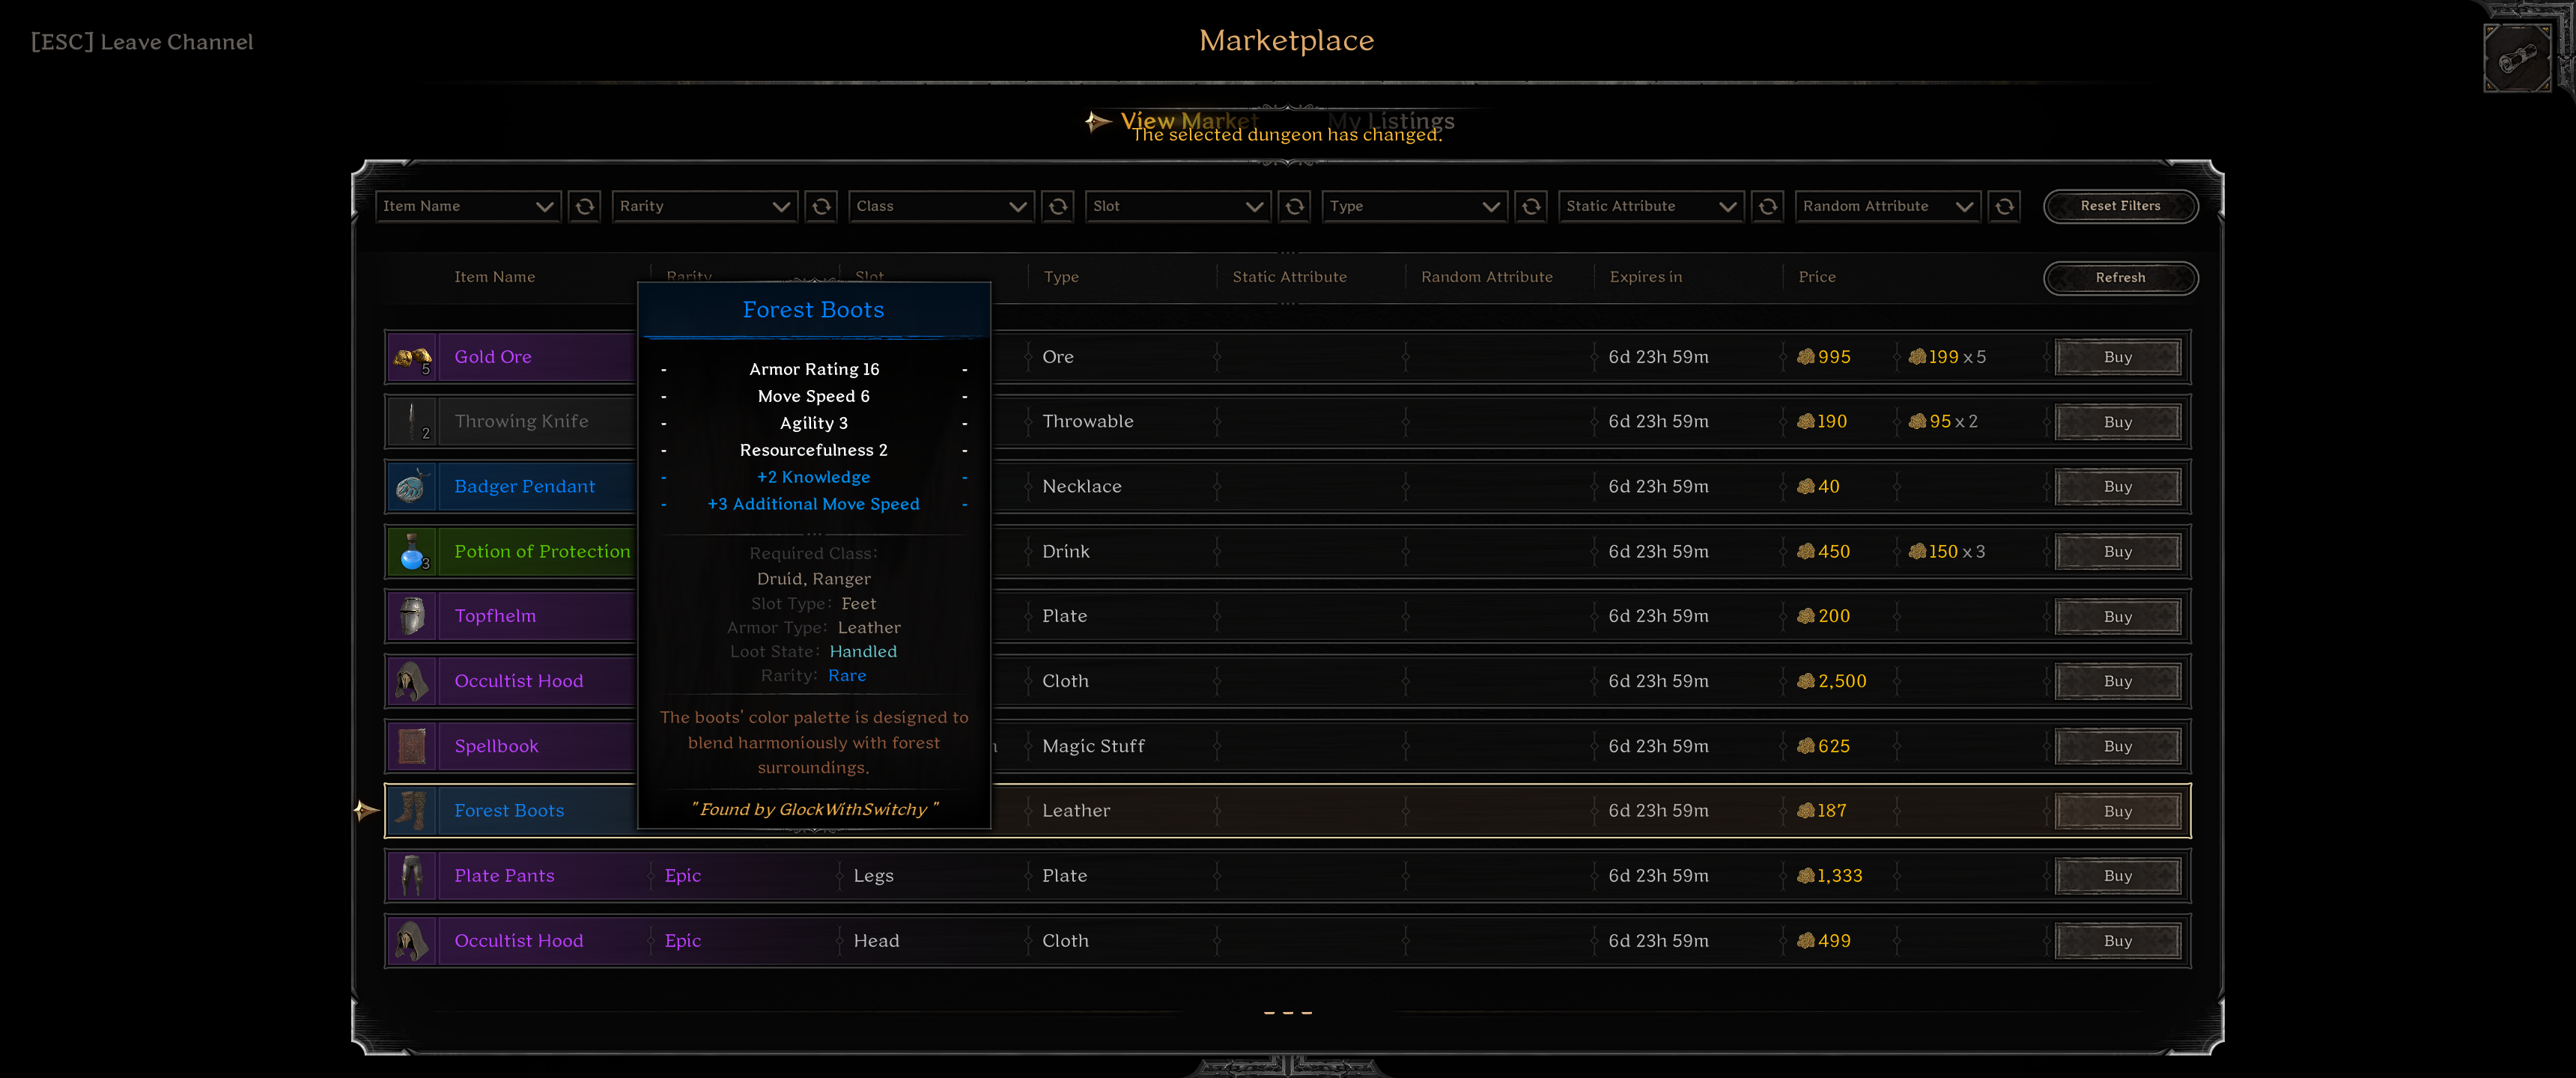Tooltip: (636, 281, 992, 830)
